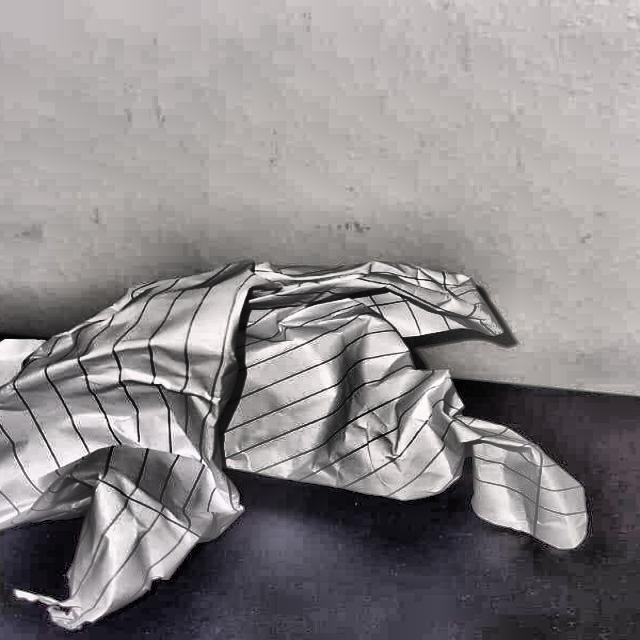paper: (0, 275, 604, 579)
